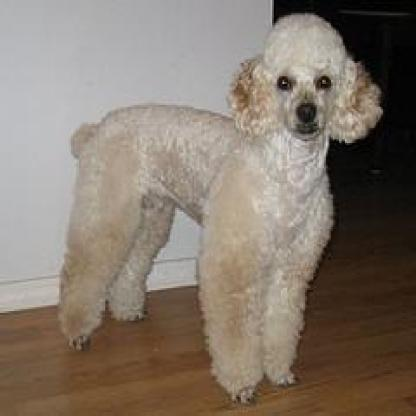miniature_poodle: (54, 10, 381, 400)
